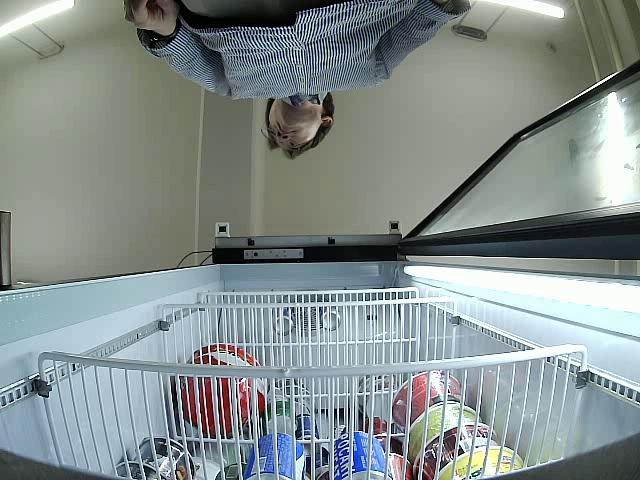00_hand: (122, 0, 183, 36)
